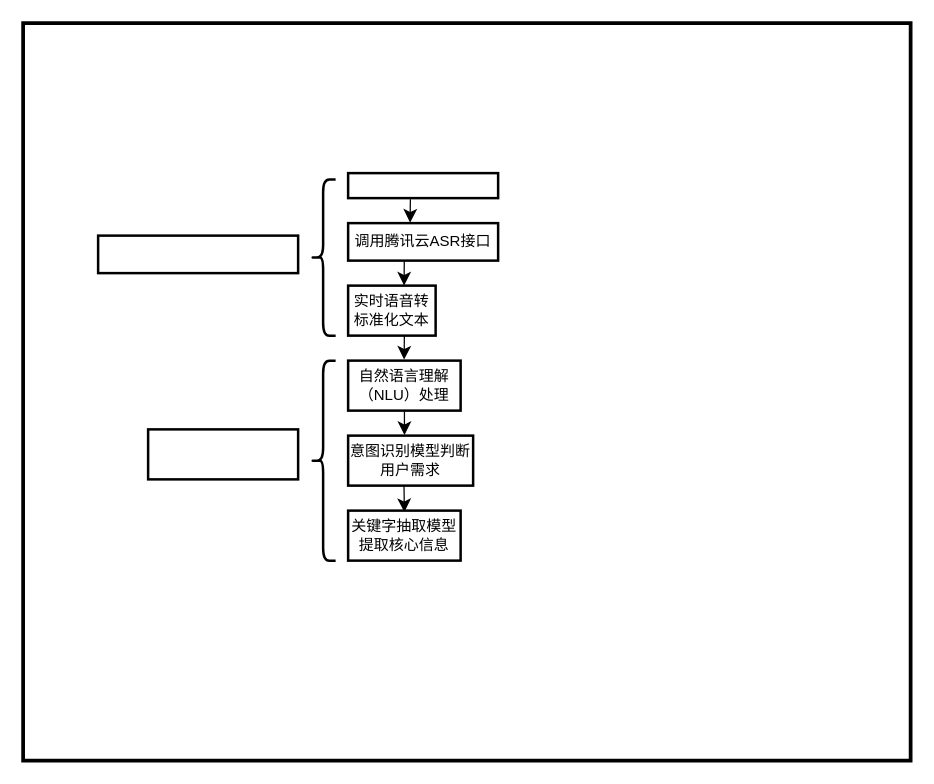
The diagram is 934 pixels wide and 784 high, and some of its shapes have lost their labels. The box of each missing label's shape, as (x1, y1, x2, y2) in pixels:
用户文字/语音输入: (346, 171, 499, 199)
阶段一：语音输入与识别: (96, 234, 299, 274)
阶段二：语义解析与意图识别: (146, 428, 299, 480)
